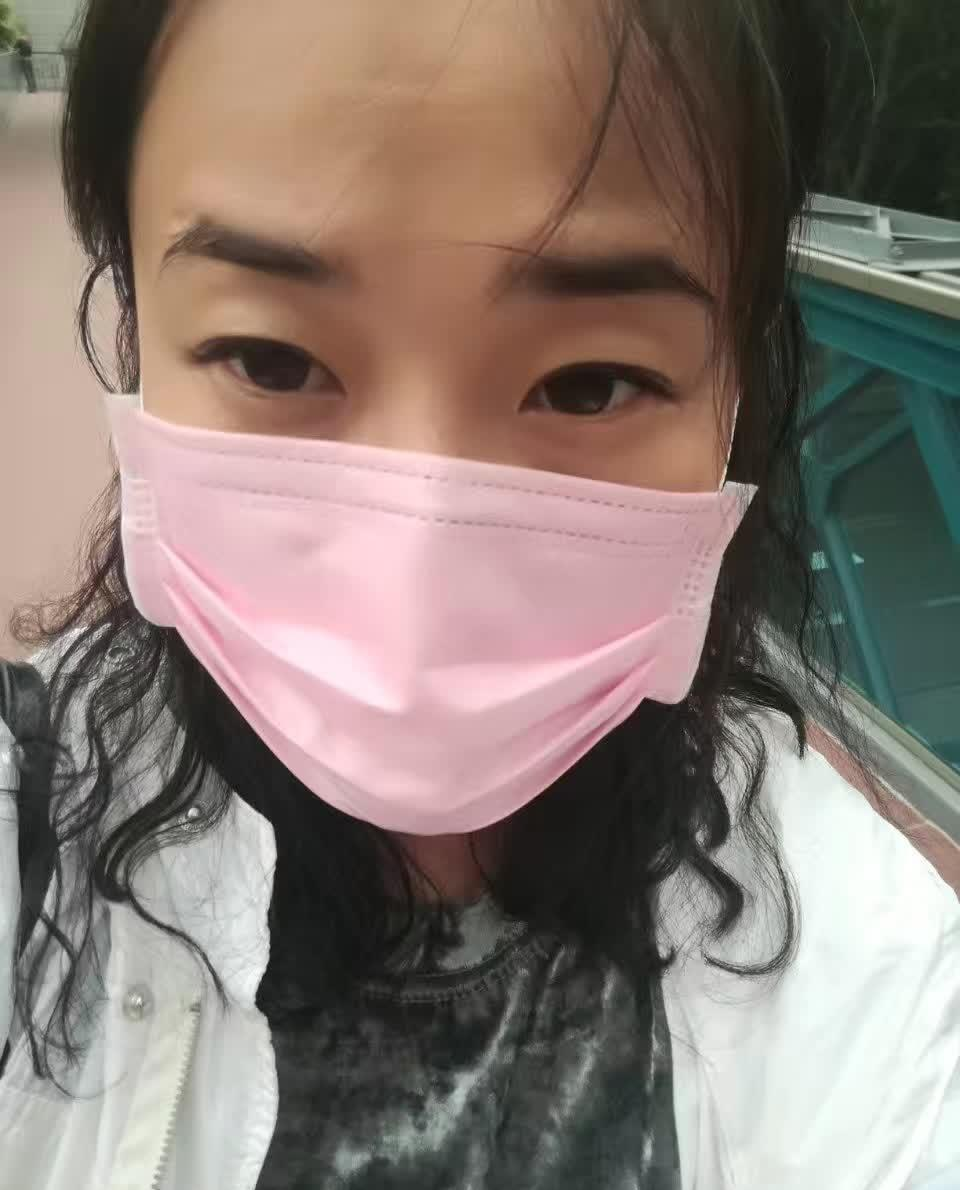OK: (111, 186, 767, 842)
